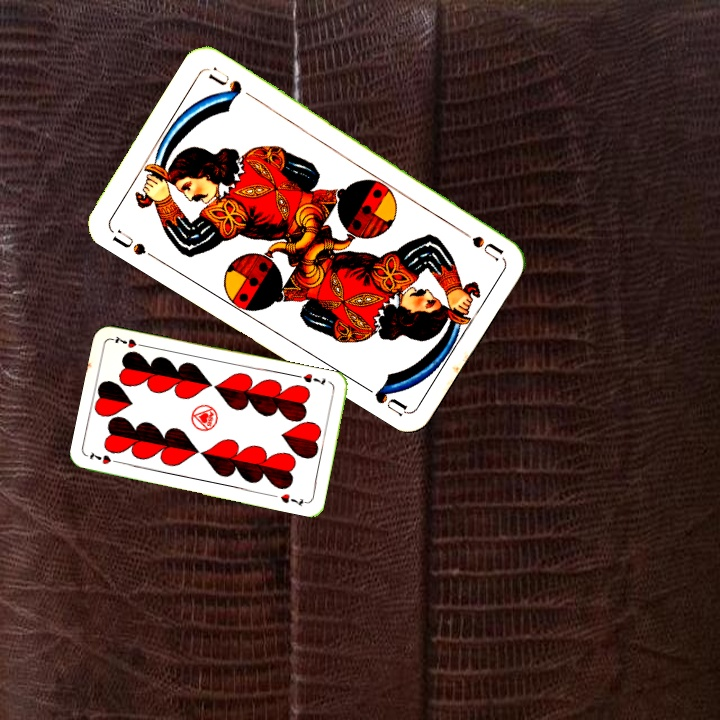H7: (85, 448, 124, 467), (299, 369, 328, 388)
SU: (450, 221, 506, 262), (108, 225, 148, 258)
